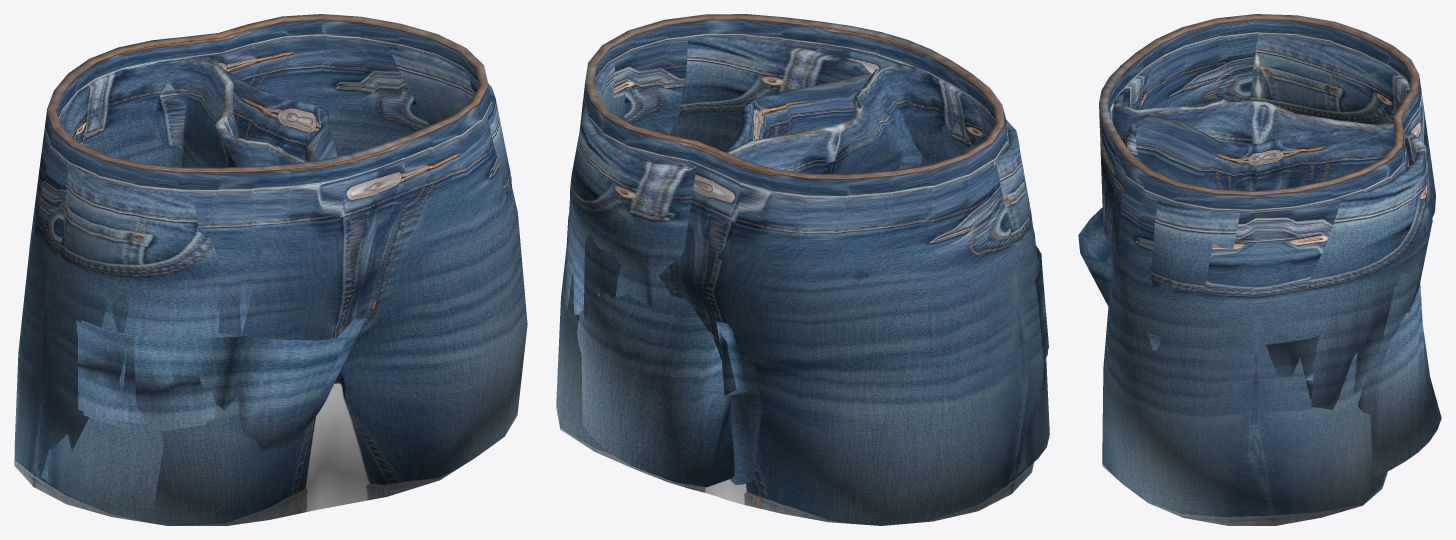
The picture shows the model from 3 angles, left to right: view 1: azimuth 30°, elevation 25°; view 2: azimuth 150°, elevation 25°; view 3: azimuth 270°, elevation 25°; orthographic projection. The views are drawn at different scales.
Visible parts, largest first — view 1: garment_leg0; view 2: garment_leg0; view 3: garment_leg0.
Part boxes in pixels (left/top/right/bottom): garment_leg0: left=14, top=14, right=527, bottom=525; garment_leg0: left=556, top=14, right=1049, bottom=525; garment_leg0: left=1078, top=14, right=1441, bottom=525.
Size of the model in its own units: 0.4227 by 0.3242 by 0.3108.
Materials: 1 (1 with a texture image).
